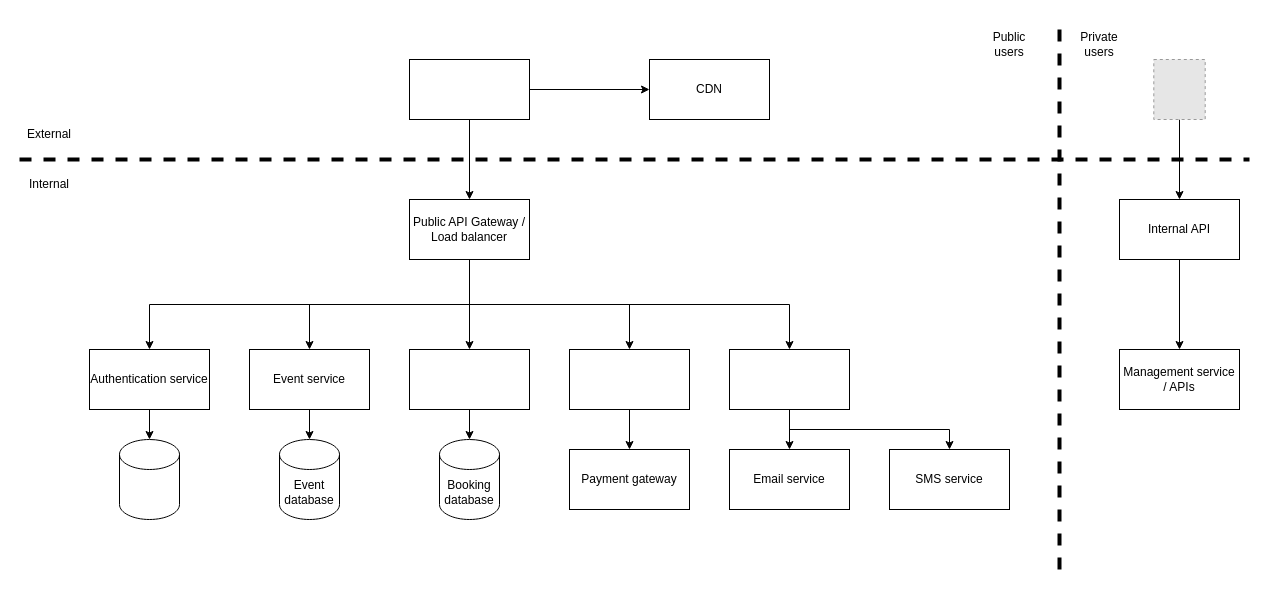
This 1269x589 diagram has some shape labels left out. Grey dashed boxes stand in for pictures. The shapes that lost their labels are listed below. From the top down, each one's centre as x and y in pixels, then its label:
At (469,89): "Clients".
At (469,379): "Booking service".
At (629,379): "Payment service".
At (789,379): "Notification service".
At (149,479): "Authen database".
